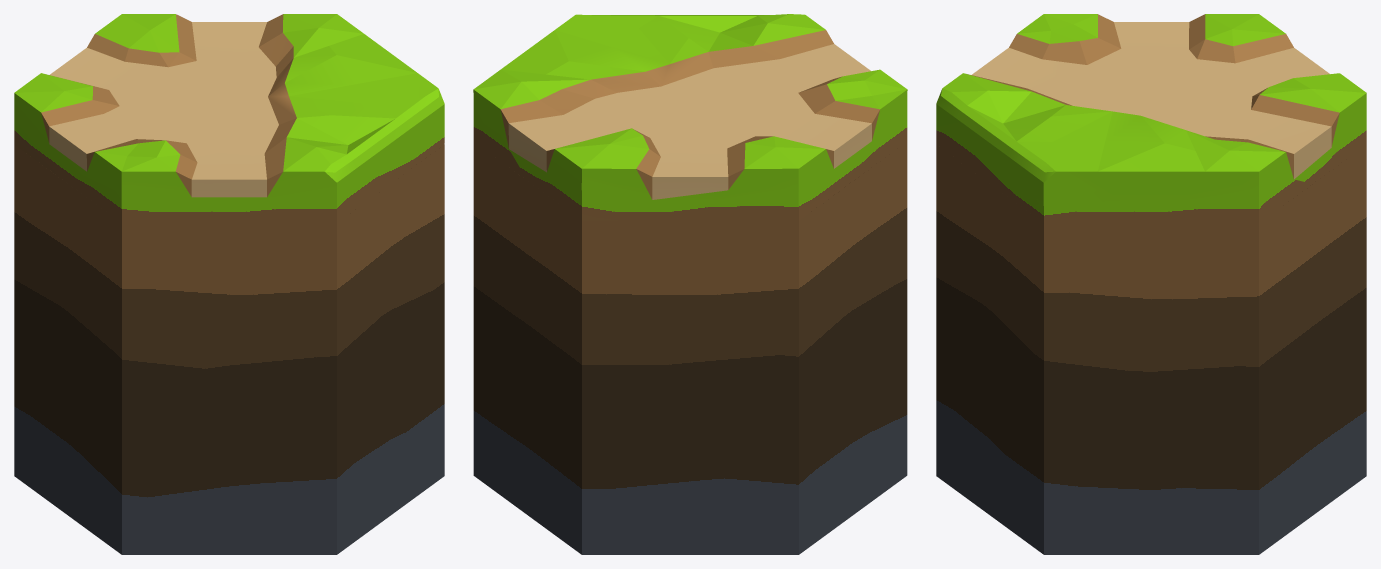
The model's file is HexTilePath_4Way_2.glb.
3 renders of one model, left to right at view 1: azimuth 30°, elevation 25°; view 2: azimuth 150°, elevation 25°; view 3: azimuth 270°, elevation 25°, orthographic.
Parts seen in each view (by area): view 1: HexTilePath_4Way_2; view 2: HexTilePath_4Way_2; view 3: HexTilePath_4Way_2.
Part boxes in pixels (x1,y1,x2,y2): HexTilePath_4Way_2: (14, 14, 444, 554); HexTilePath_4Way_2: (473, 14, 907, 554); HexTilePath_4Way_2: (936, 14, 1366, 554).
Bounding box in the file's own units: 1.73 × 1.99 × 2.
Materials: 1 (1 with a texture image).
